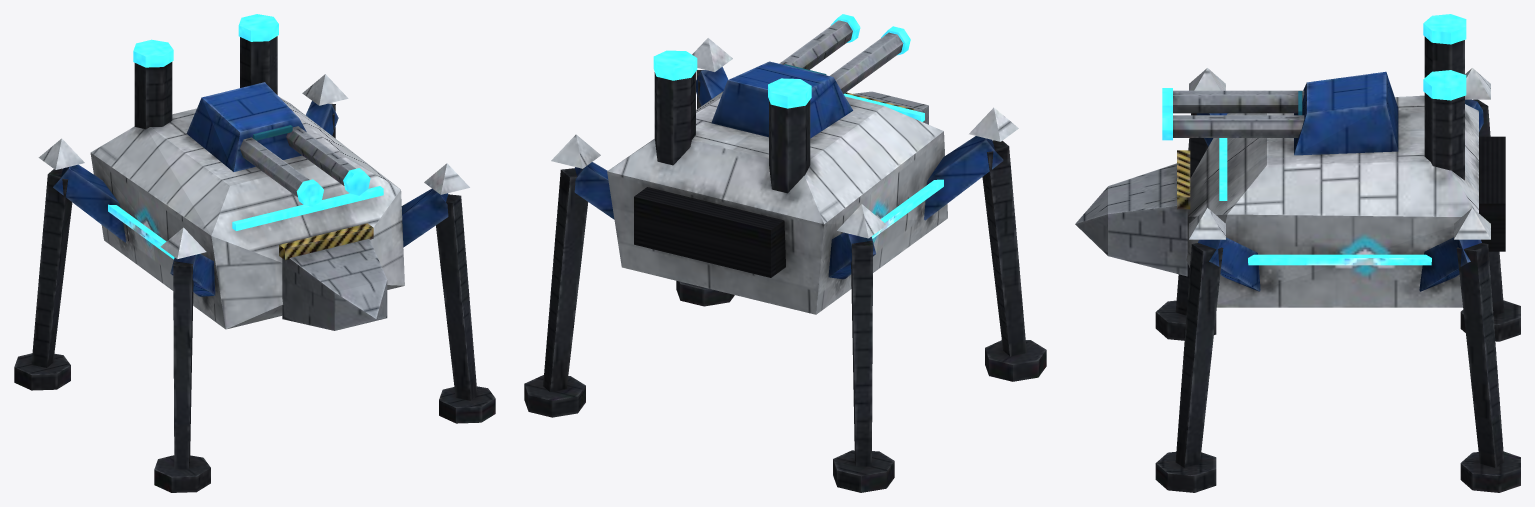
Rendered from s_worldbreaker_w.glb.
3 renders of one model, left to right at view 1: azimuth 30°, elevation 25°; view 2: azimuth 150°, elevation 25°; view 3: azimuth 270°, elevation 25°, orthographic. The views are drawn at different scales.
Parts seen in each view (by area): view 1: s_worldbreaker_w; view 2: s_worldbreaker_w; view 3: s_worldbreaker_w.
Part boxes in pixels (bbox=[...]): s_worldbreaker_w: bbox=[14, 14, 495, 492]; s_worldbreaker_w: bbox=[524, 14, 1046, 492]; s_worldbreaker_w: bbox=[1075, 14, 1520, 492].
Size of the model in its own units: 3.33 by 3.09 by 3.53.
1 material, 1 textured.
